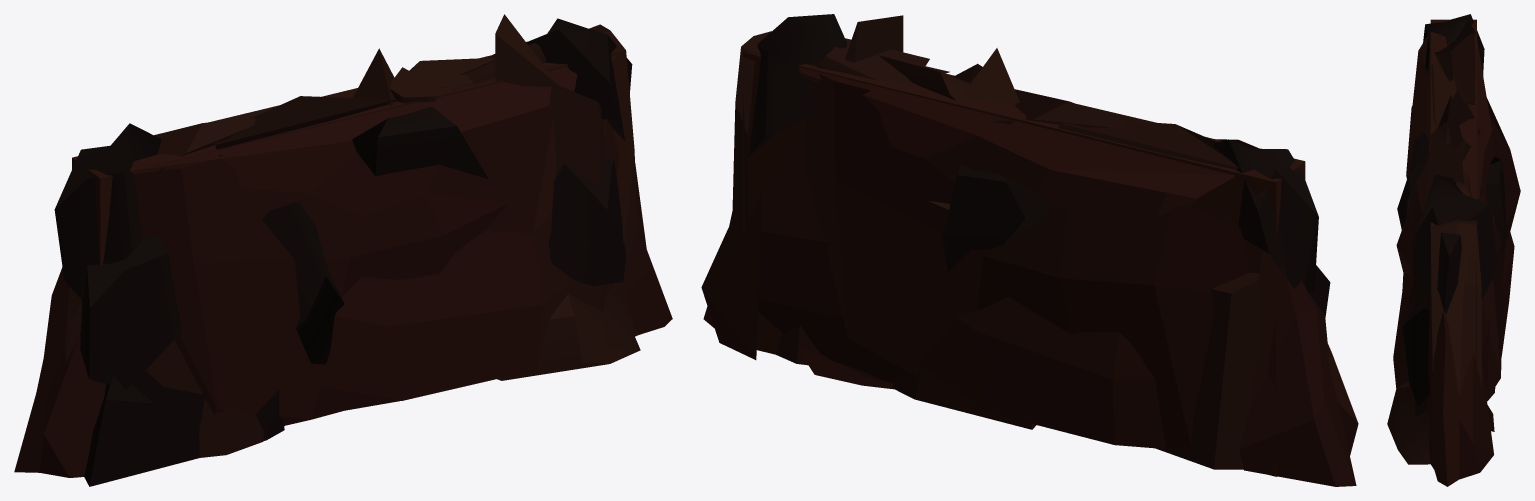
The model's file is Wall_Skill.fbx.
The picture shows the model from 3 angles, left to right: view 1: azimuth 30°, elevation 25°; view 2: azimuth 150°, elevation 25°; view 3: azimuth 270°, elevation 25°; orthographic projection. The views are drawn at different scales.
Parts seen in each view (by area): view 1: Wall_Skill; view 2: Wall_Skill; view 3: Wall_Skill.
Boxes of the visible parts, x1,y1,x2,y2 form: Wall_Skill: [14, 14, 672, 486]; Wall_Skill: [701, 14, 1358, 486]; Wall_Skill: [1387, 14, 1520, 486].
Size of the model in its own units: 5.53 by 2.76 by 1.21.
